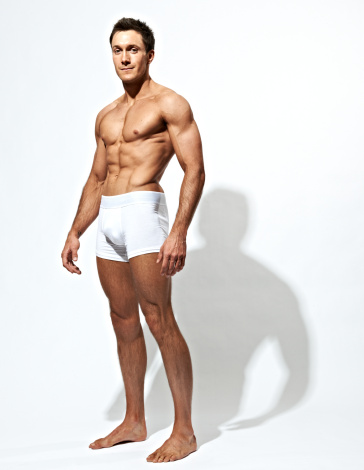em pe: (59, 3, 220, 452)
